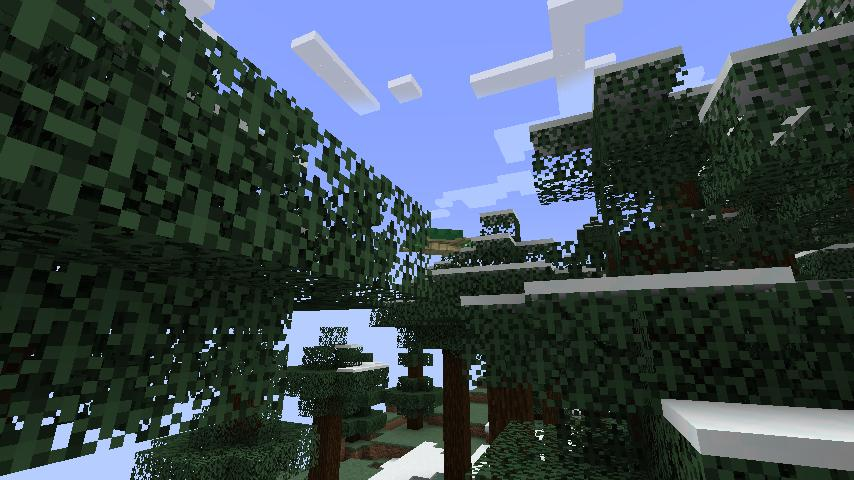turtle: (400, 226, 474, 256)
